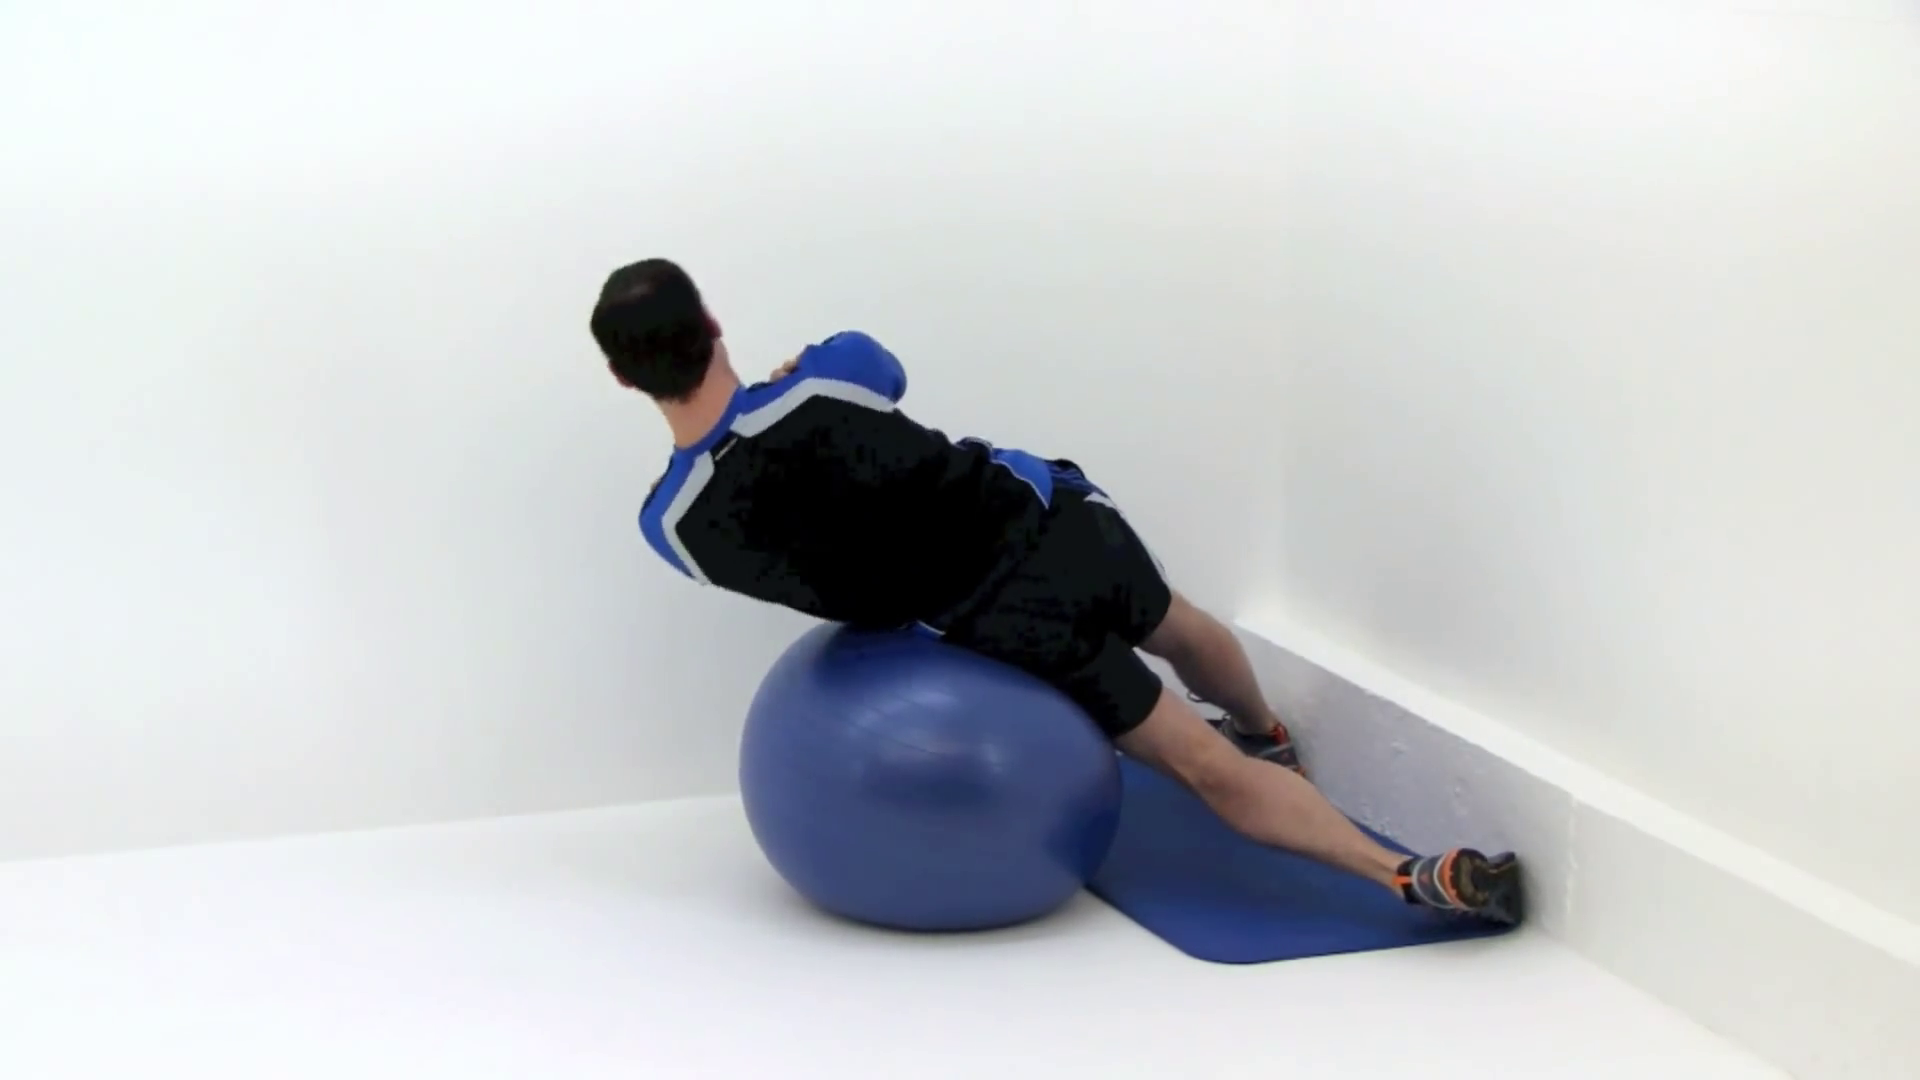yogaball: (711, 592, 1143, 953)
